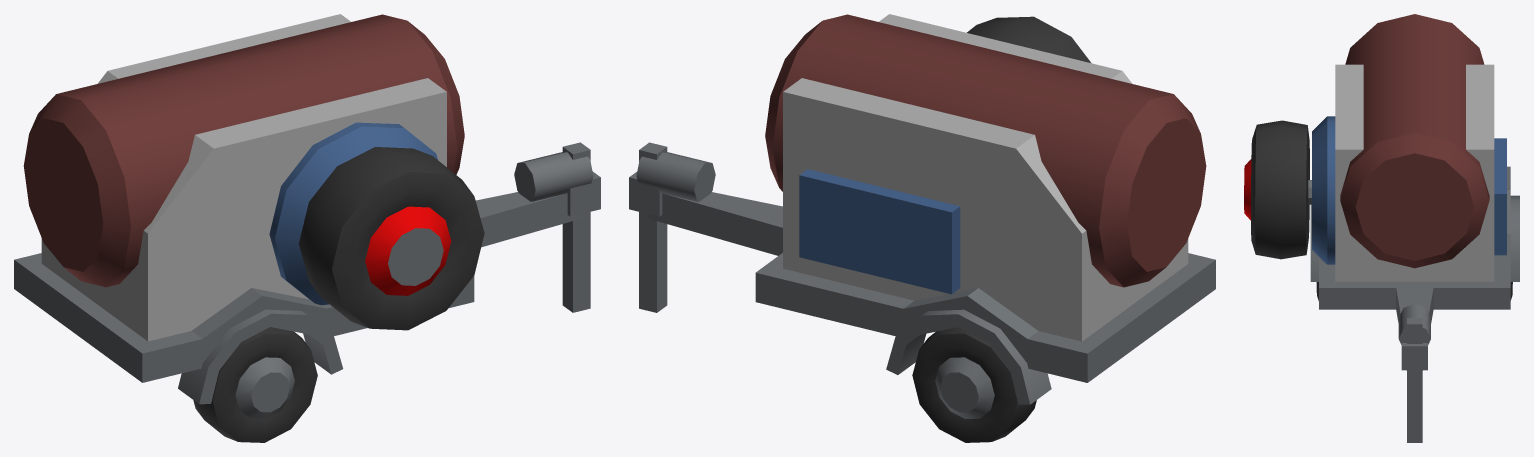
The model's file is WhiteMetalMechSmallMotorDrive1.fbx.
The picture shows the model from 3 angles, left to right: view 1: azimuth 30°, elevation 25°; view 2: azimuth 150°, elevation 25°; view 3: azimuth 270°, elevation 25°; orthographic projection. The views are drawn at different scales.
Visible parts, largest first — view 1: Body, WheelDrive, LeftWheel; view 2: Body, RightWheel, WheelDrive; view 3: Body, WheelDrive.
Boxes of the visible parts, x1=… form: Body: x1=14, y1=14, x2=600, y2=404; WheelDrive: x1=299, y1=147, x2=484, y2=330; LeftWheel: x1=193, y1=327, x2=317, y2=442; Body: x1=629, y1=14, x2=1215, y2=404; RightWheel: x1=912, y1=327, x2=1036, y2=442; WheelDrive: x1=967, y1=16, x2=1091, y2=63; Body: x1=1308, y1=14, x2=1519, y2=442; WheelDrive: x1=1244, y1=120, x2=1309, y2=259.
Size of the model in its own units: 668 by 398 by 404.
